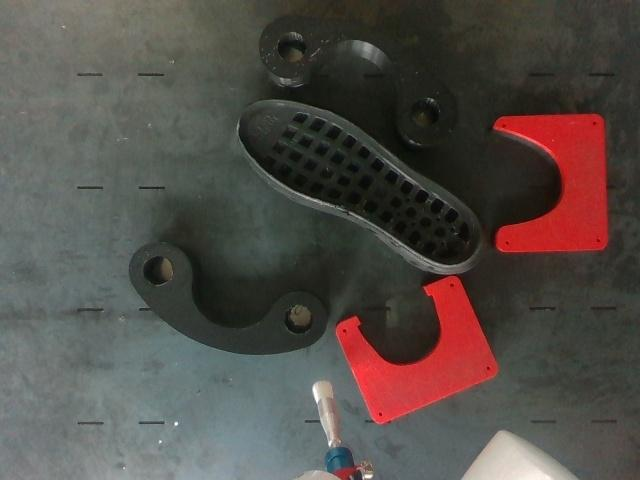shoes: (239, 100, 480, 265)
